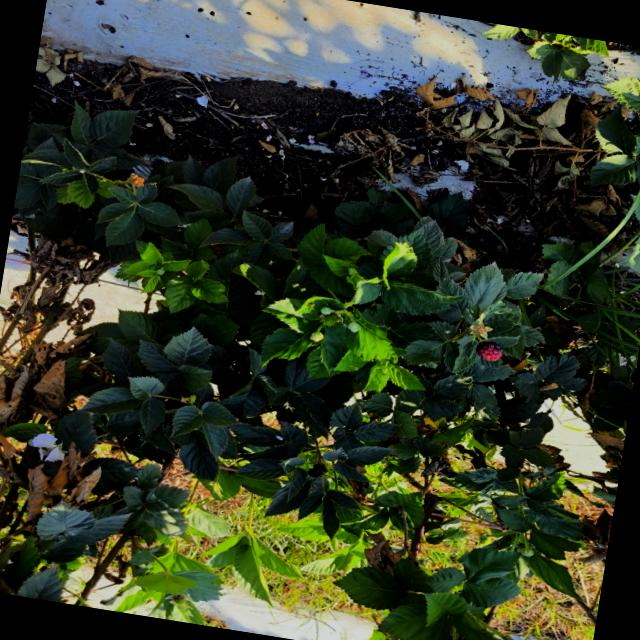boton: (310, 330, 324, 342), (347, 322, 361, 333), (320, 307, 332, 315)
marron: (476, 342, 503, 361)
